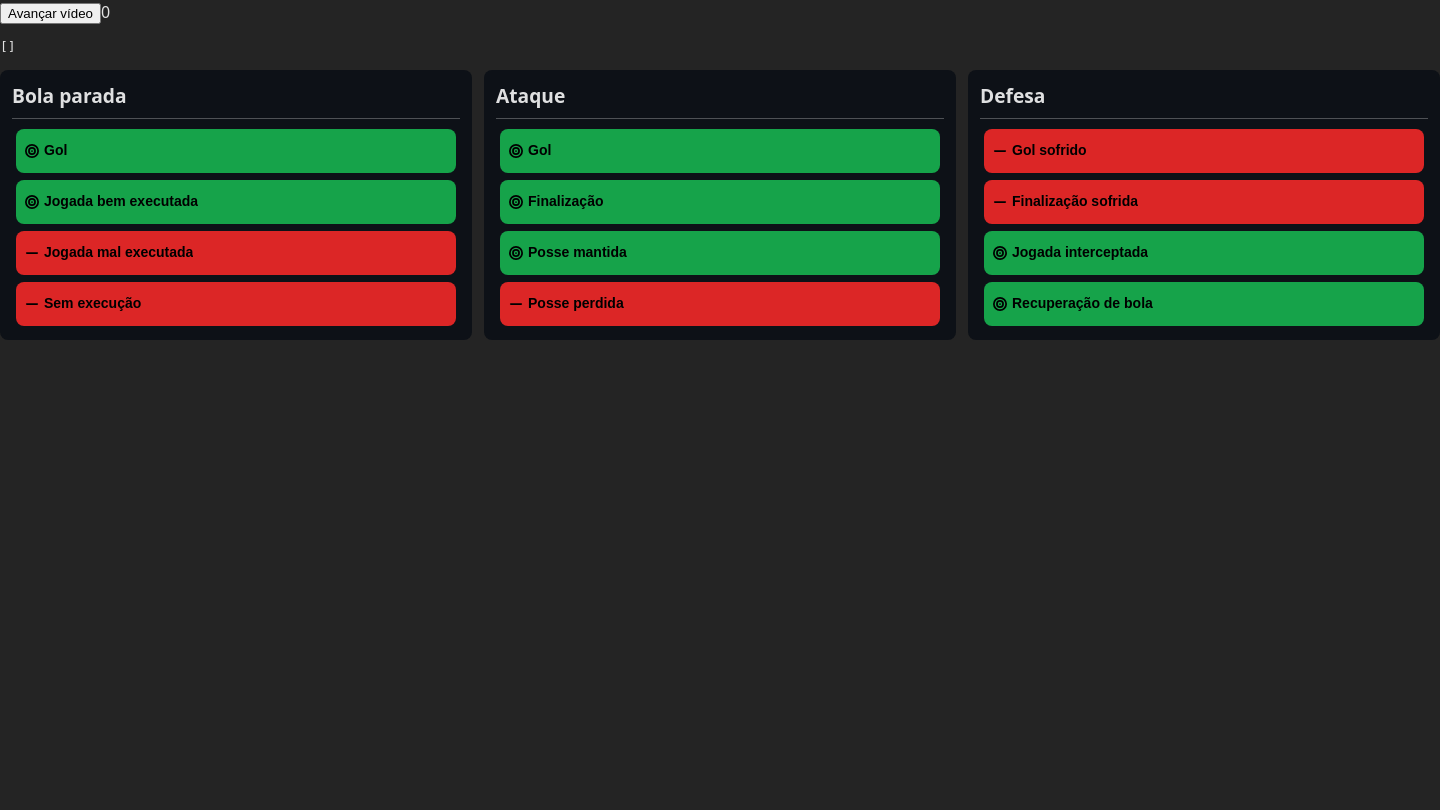
Test: TeamActions v2 › opens the modal with only the selected group contexts and cancels without tagging
Click the button "Finalização". click: (566, 201)
box: [500, 180, 940, 224]
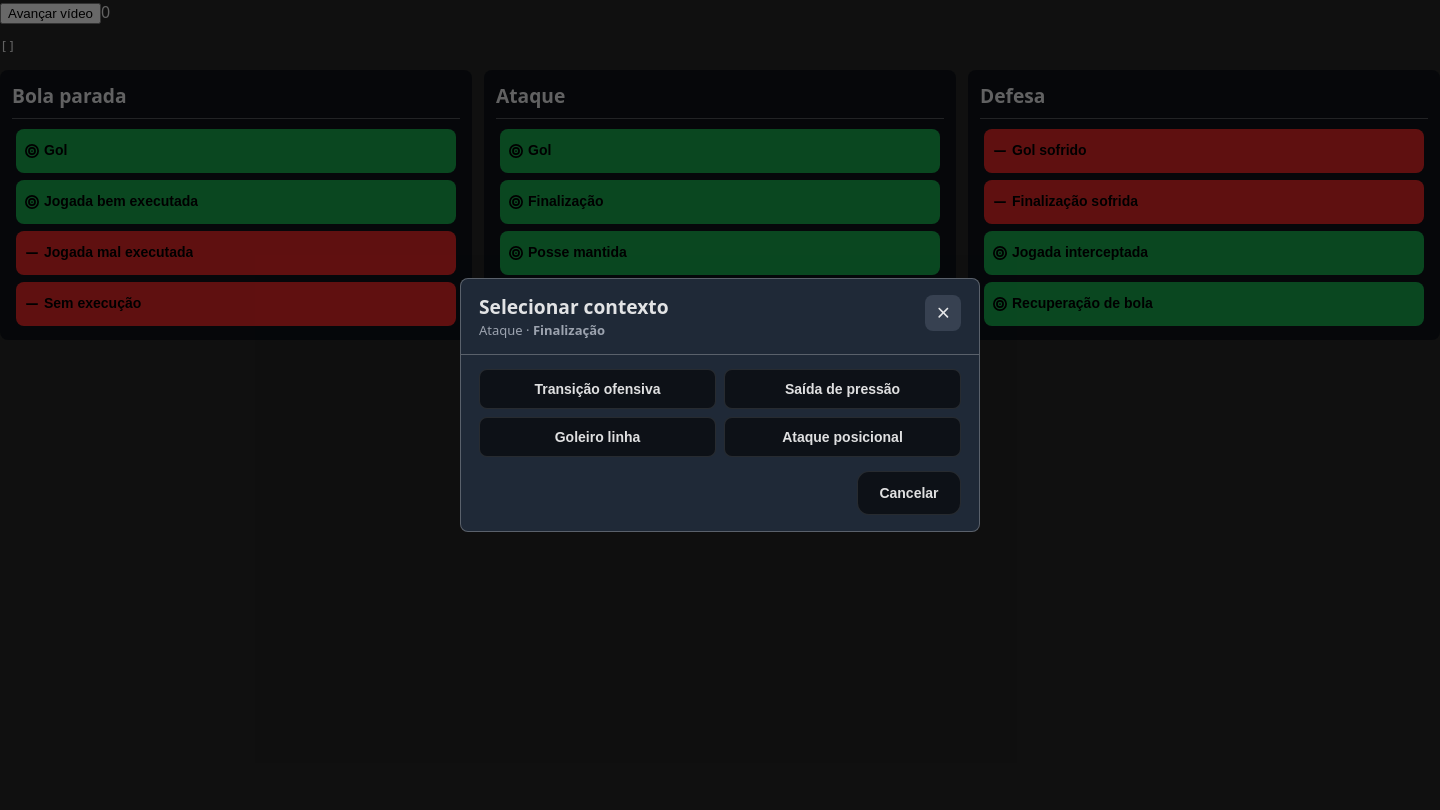
Result: the dialog is shown at [460, 278, 980, 532]
Result: the button "Saída de pressão" is shown at [724, 370, 961, 410]
Result: the button "Ataque posicional" is shown at [724, 418, 961, 458]
Click the button "Cancelar". click: (909, 494)
box: [857, 472, 961, 516]
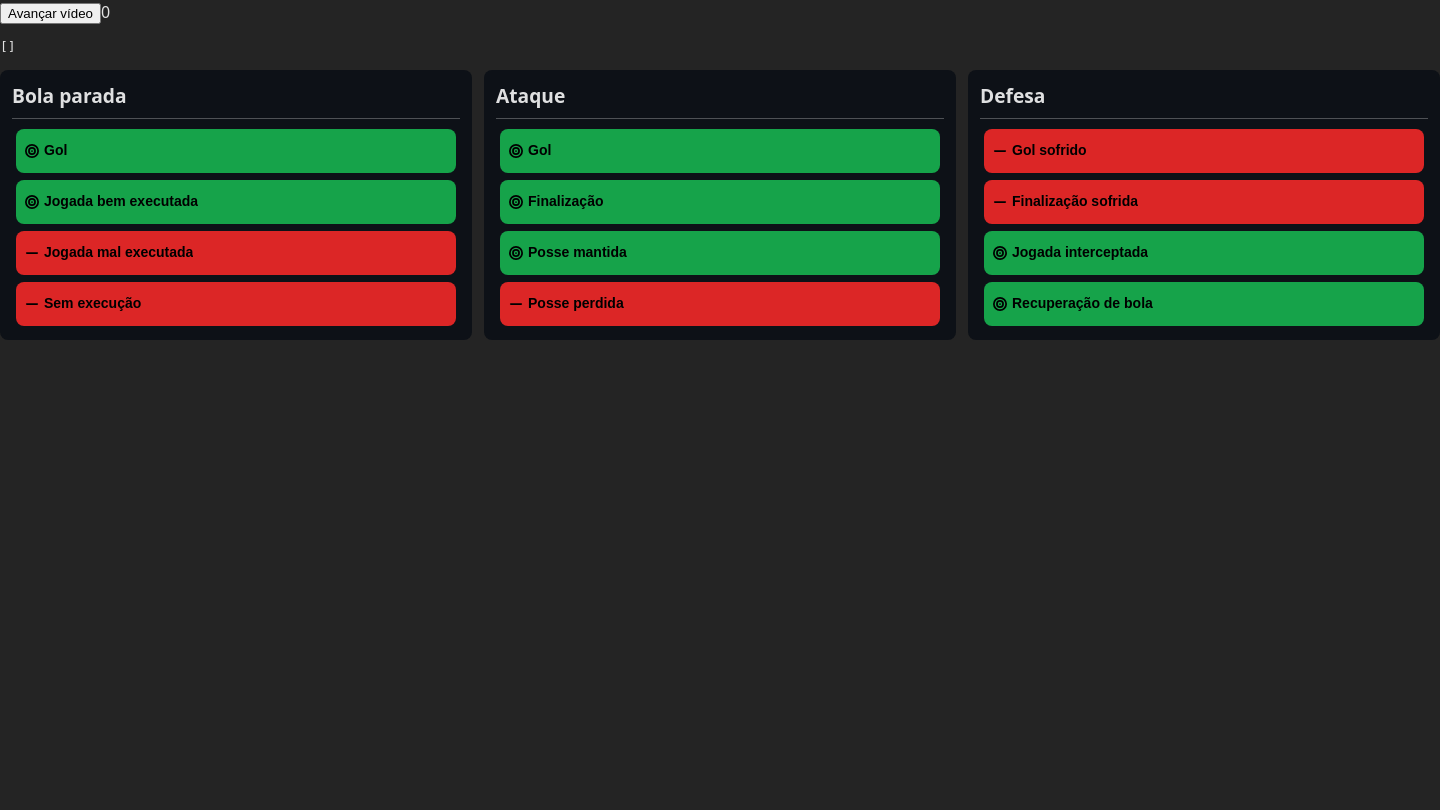
Expected: the text with test id "team-action-count" reads "0", [101, 1, 110, 23]
Result: the dialog is gone
